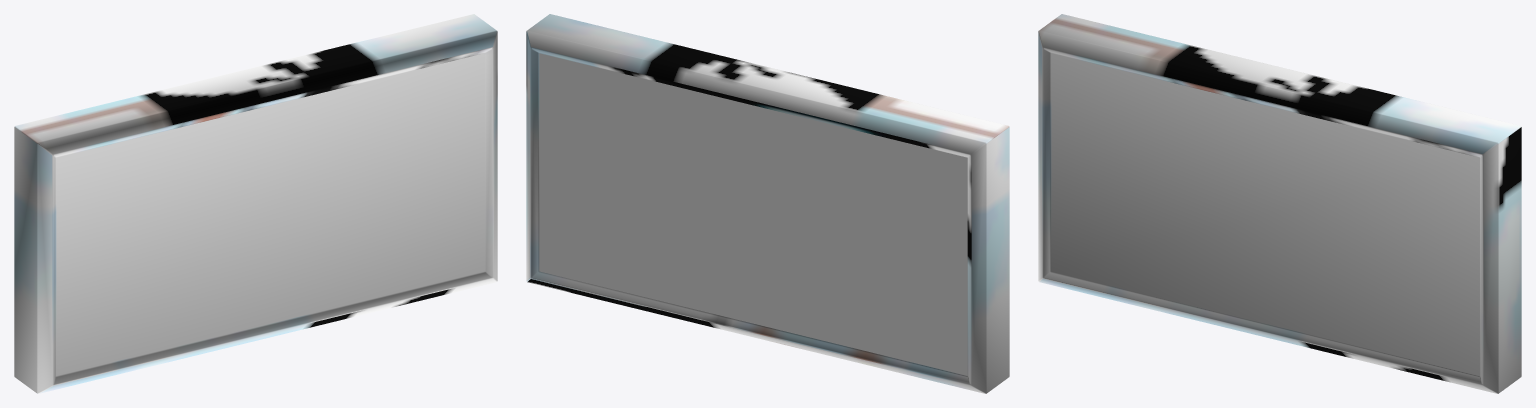
File: static.ico.obj
The picture shows the model from 3 angles, left to right: view 1: azimuth 30°, elevation 25°; view 2: azimuth 150°, elevation 25°; view 3: azimuth 330°, elevation 25°; orthographic projection.
Bounding box in the file's own units: 4.5 × 2.35 × 0.5771.
